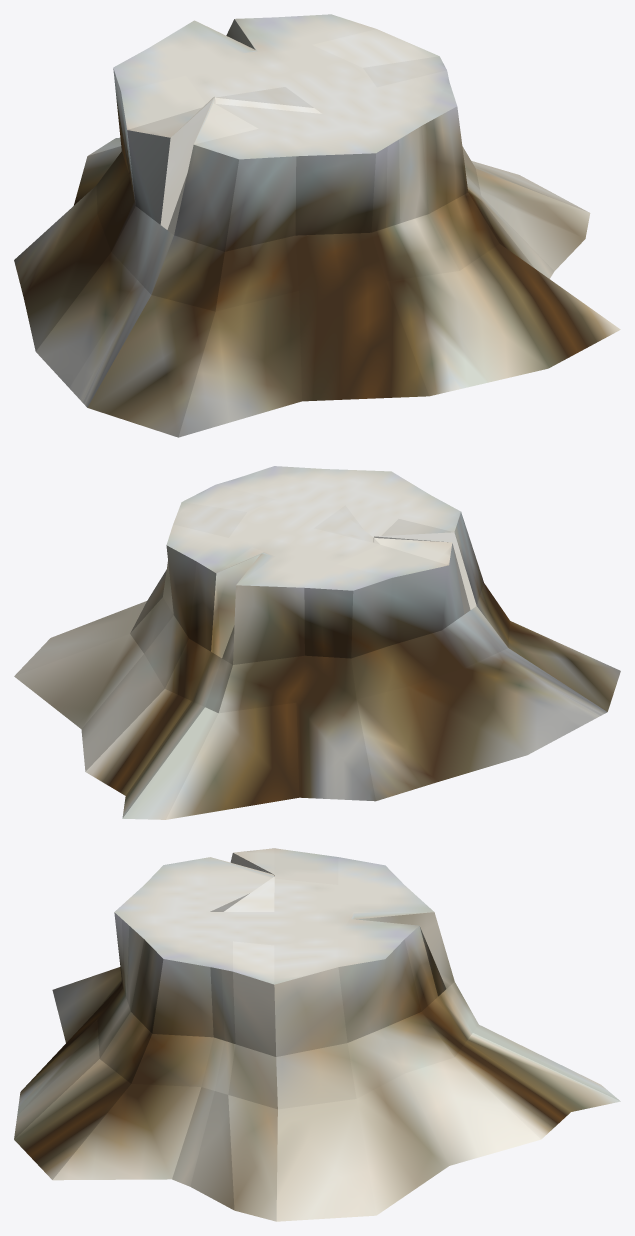
Rendered from Poly_Stump_03_Snow.obj.
3 renders of one model, top to bottom at view 1: azimuth 30°, elevation 25°; view 2: azimuth 150°, elevation 25°; view 3: azimuth 270°, elevation 25°, orthographic. The views are drawn at different scales.
Visible parts, largest first — view 1: Cube_Cube.001; view 2: Cube_Cube.001; view 3: Cube_Cube.001.
Boxes of the visible parts, x1=… form: Cube_Cube.001: x1=14, y1=14, x2=620, y2=437; Cube_Cube.001: x1=14, y1=466, x2=620, y2=819; Cube_Cube.001: x1=14, y1=848, x2=620, y2=1221.
Size of the model in its own units: 1.45 by 0.5095 by 1.5.
Materials: 1 (1 with a texture image).
